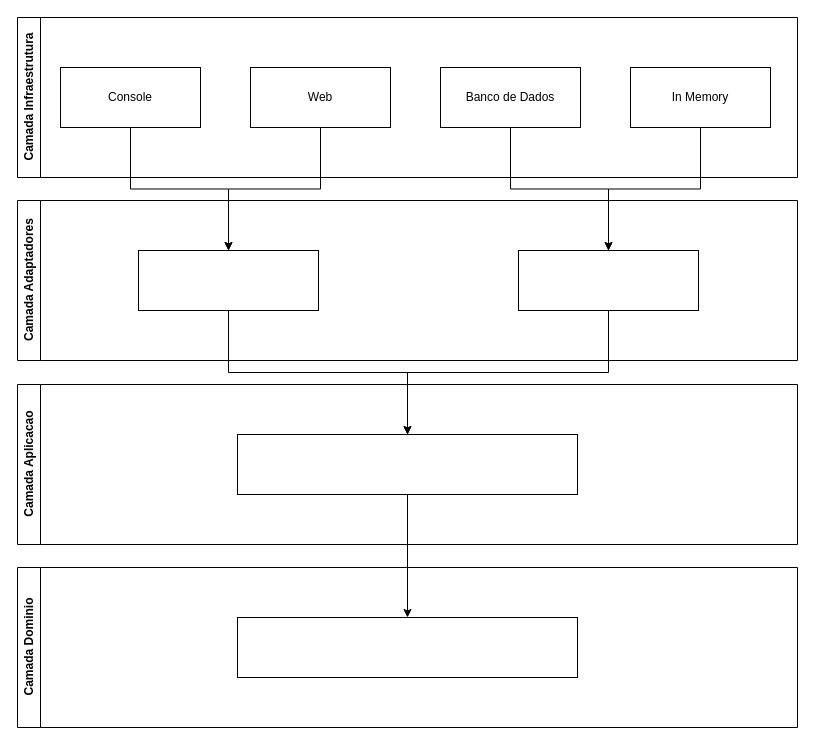
Some shapes in this 815 by 745 pixel diagram are drawn without their labels. The centre of each missing label's shape, as x and y in pixels:
"Casos de uso" goes at (x=407, y=464).
"Controladores" goes at (x=228, y=280).
"Entidades" goes at (x=407, y=647).
"Repositorios" goes at (x=608, y=280).
